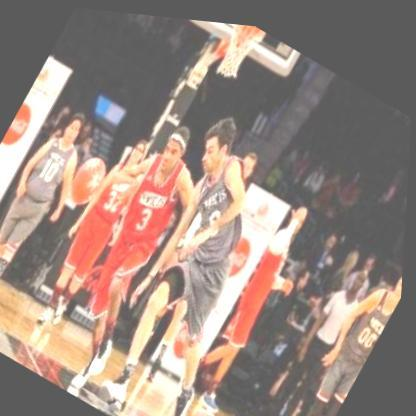basketball: (65, 146, 116, 207)
